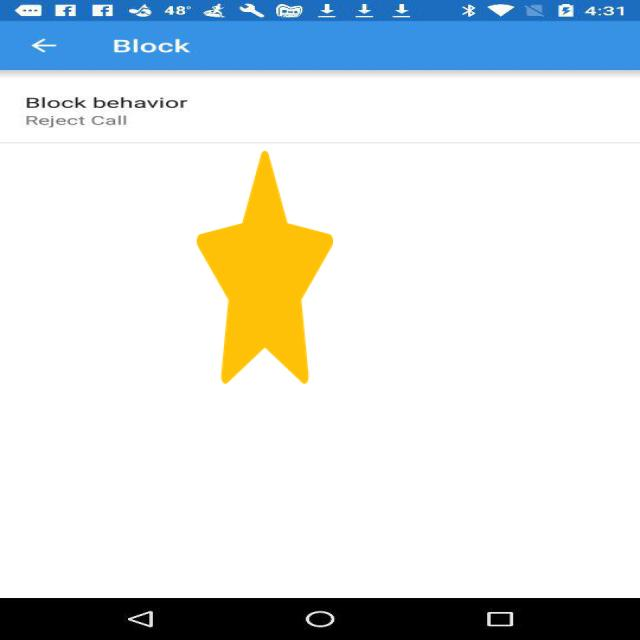forced continuity: (197, 151, 333, 384)
